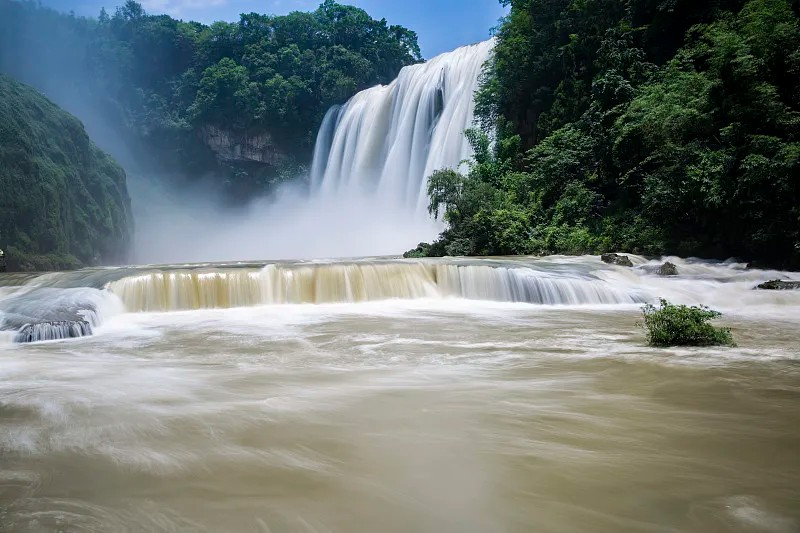Huangguoshu: (311, 37, 499, 258)
